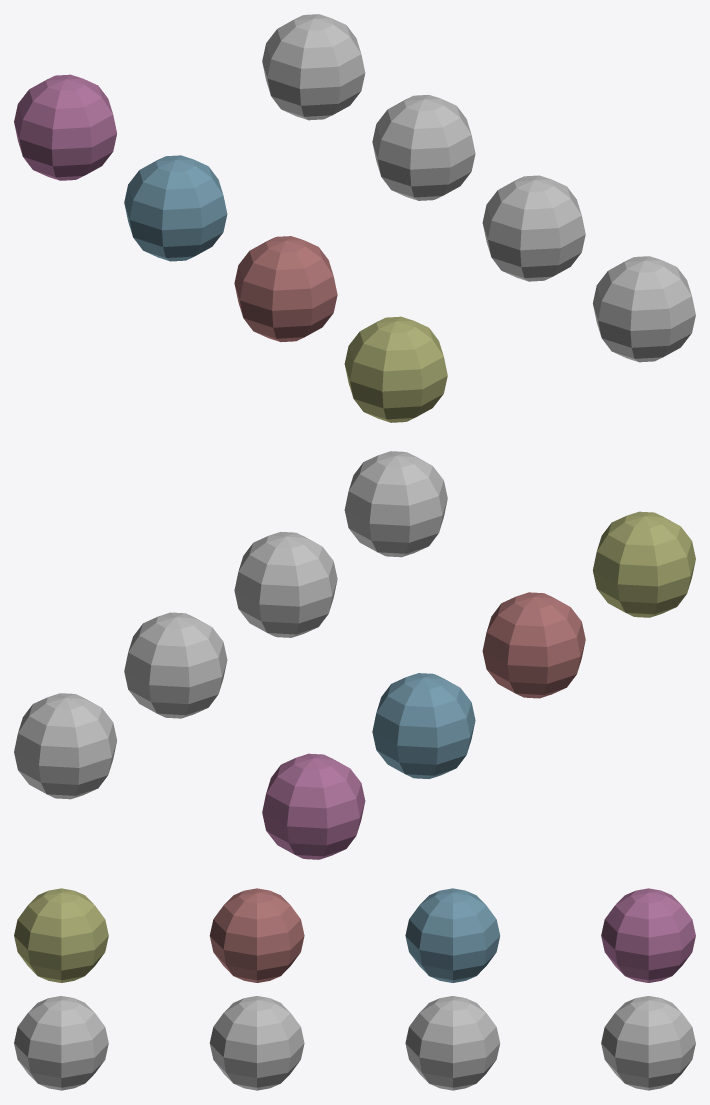
The model's file is test_shader.fbx.
The picture shows the model from 3 angles, top to bottom: view 1: azimuth 30°, elevation 25°; view 2: azimuth 150°, elevation 25°; view 3: azimuth 270°, elevation 25°; orthographic projection. The views are drawn at different scales.
Visible parts, largest first — view 1: pSphere3, pSphere4, pSphere6, pSphere7, pSphere1, pSphere2, pSphere8, pSphere9; view 2: pSphere1, pSphere2, pSphere8, pSphere9, pSphere3, pSphere4, pSphere6, pSphere7; view 3: pSphere1, pSphere4, pSphere6, pSphere9, pSphere2, pSphere3, pSphere7, pSphere8.
Boxes of the visible parts, box(x1,y1,x2,y2) form: pSphere3: box(124, 155, 227, 261); pSphere4: box(14, 74, 116, 180); pSphere6: box(593, 256, 695, 362); pSphere7: box(482, 175, 585, 281); pSphere1: box(344, 316, 447, 422); pSphere2: box(234, 236, 337, 341); pSphere8: box(372, 95, 475, 200); pSphere9: box(262, 14, 365, 120); pSphere1: box(593, 511, 695, 617); pSphere2: box(482, 592, 585, 698); pSphere8: box(124, 612, 227, 718); pSphere9: box(14, 693, 116, 799); pSphere3: box(372, 673, 475, 778); pSphere4: box(262, 753, 365, 859); pSphere6: box(344, 451, 447, 557); pSphere7: box(234, 532, 337, 637); pSphere1: box(14, 888, 108, 982); pSphere4: box(601, 888, 695, 982); pSphere6: box(14, 996, 108, 1090); pSphere9: box(601, 996, 695, 1090); pSphere2: box(209, 888, 304, 982); pSphere3: box(405, 888, 500, 982); pSphere7: box(209, 996, 304, 1090); pSphere8: box(405, 996, 500, 1090).
Size of the model in its own units: 67.02 by 18.2 by 131.
